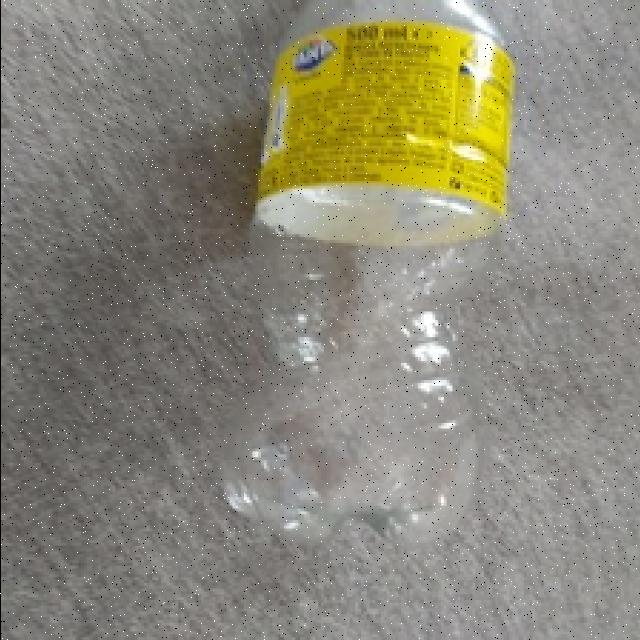plastic: (235, 2, 510, 552)
